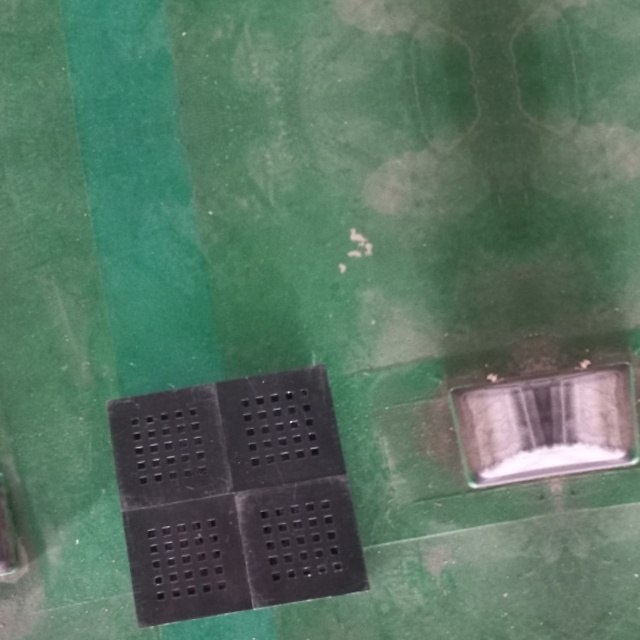pallet: (99, 359, 375, 635)
